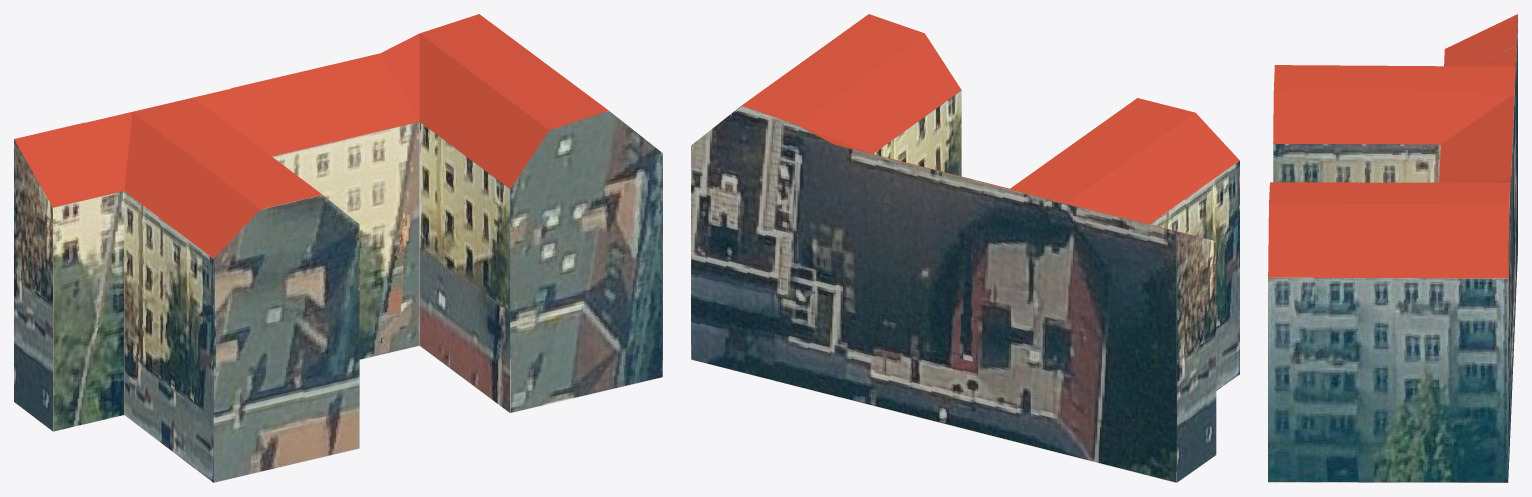
3 views of the same model, side by side, from view 1: azimuth 30°, elevation 25°; view 2: azimuth 150°, elevation 25°; view 3: azimuth 270°, elevation 25° (orthographic). The views are drawn at different scales.
Size of the model in its own units: 41.67 by 21.59 by 19.18.
3 materials, 1 textured.
